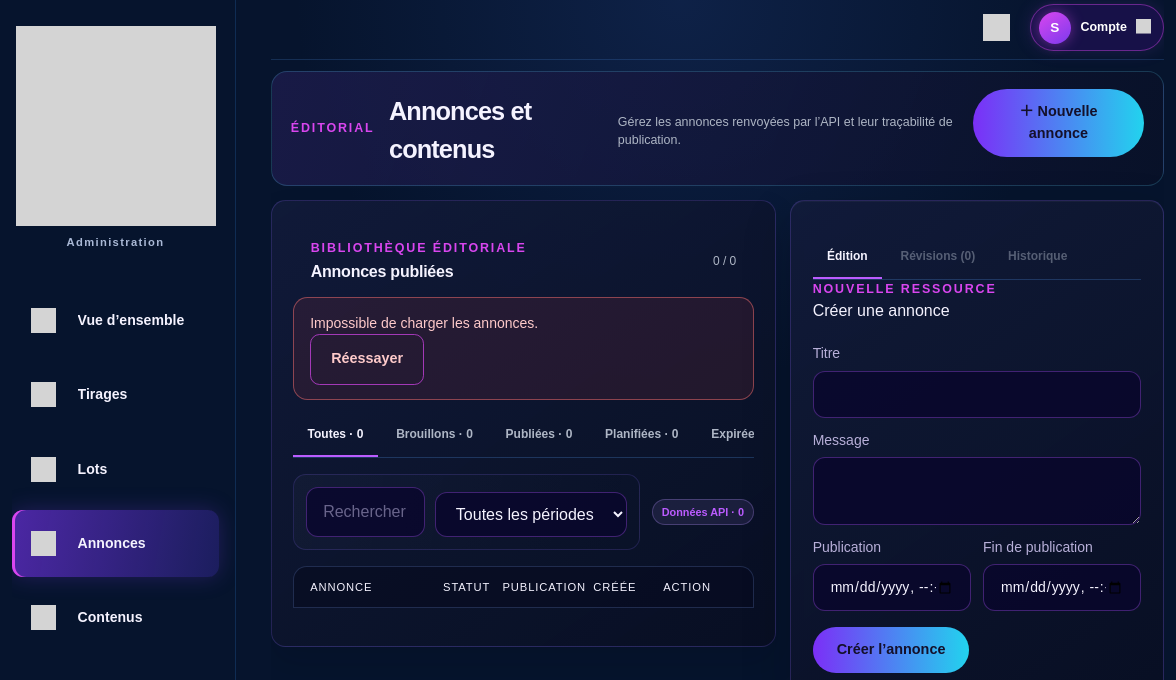
permet de reprendre après une erreur de chargement
Check: the message reads "Impossible de charger les annonces.", box [310,315,538,331]
Step 1. Click the button "Réessayer" → point(367, 359), box [310,334,424,384]
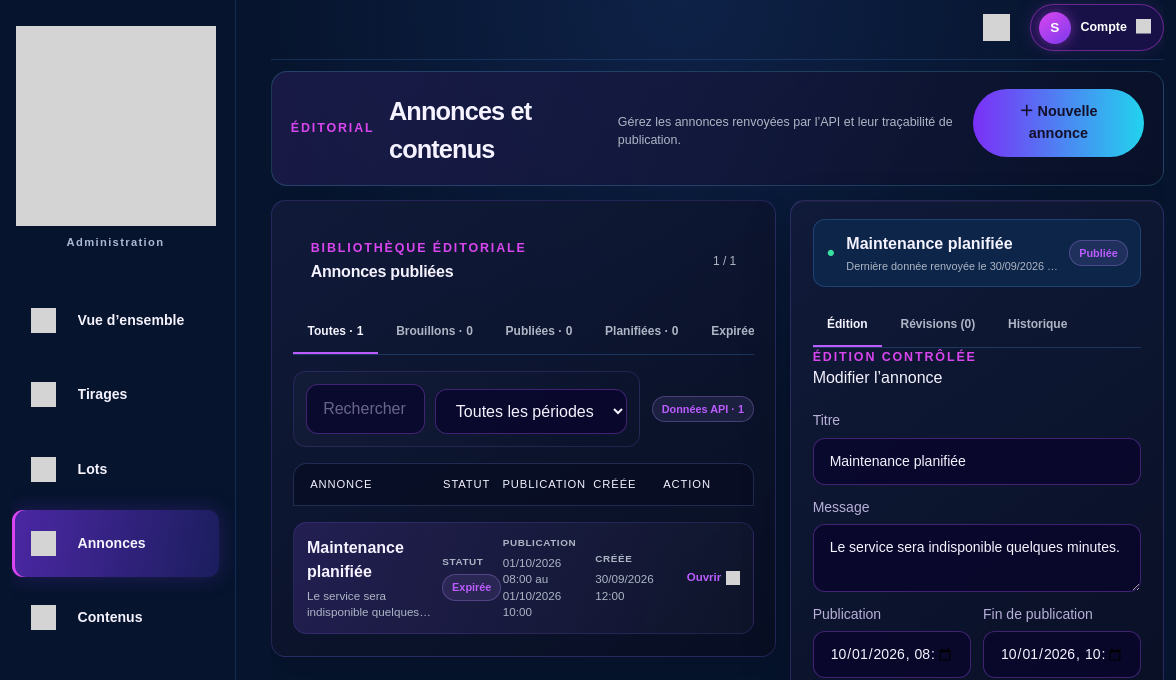
Check: the button with aria-label "Ouvrir l’annonce Maintenance planifiée" is shown, box [294,523,753,633]
Check: the text "Impossible de charger les annonces." is gone
